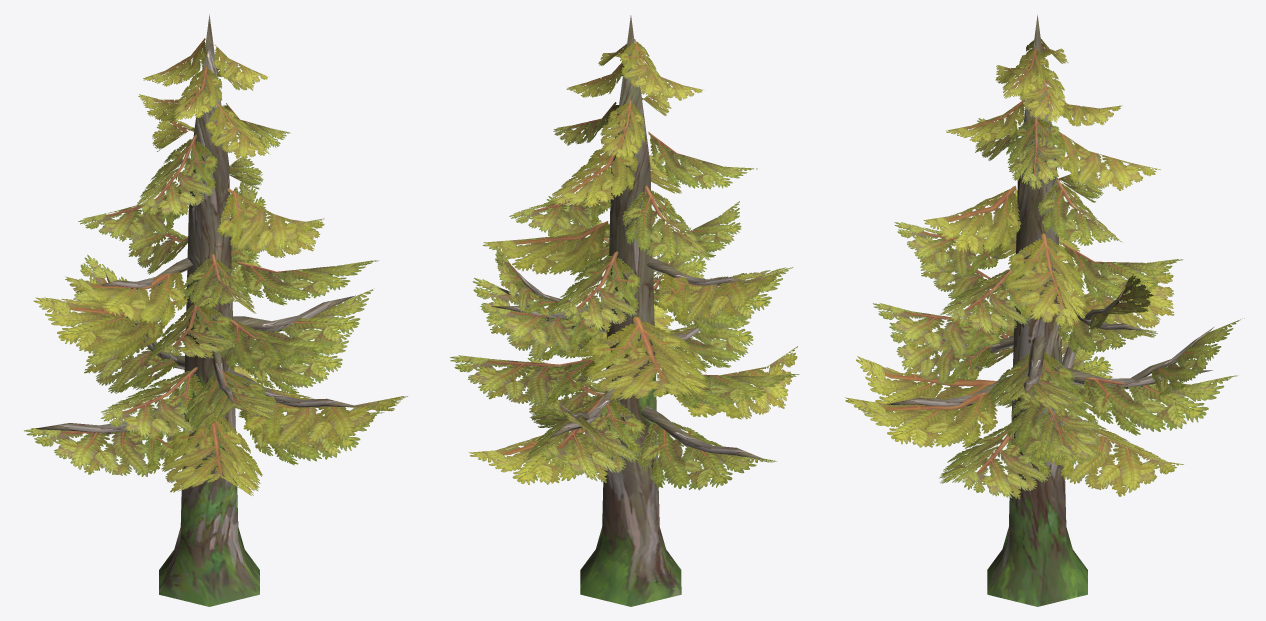
The model's file is Map_08_tree04.FBX.
3 renders of one model, left to right at view 1: azimuth 30°, elevation 25°; view 2: azimuth 150°, elevation 25°; view 3: azimuth 270°, elevation 25°, orthographic.
Visible parts, largest first — view 1: Map_08_tree04a, Map_08_tree04b; view 2: Map_08_tree04a, Map_08_tree04b; view 3: Map_08_tree04a, Map_08_tree04b.
Boxes of the visible parts, x1,y1,x2,y2 form: Map_08_tree04a: [24, 38, 407, 495]; Map_08_tree04b: [31, 14, 359, 606]; Map_08_tree04a: [450, 39, 799, 490]; Map_08_tree04b: [491, 15, 767, 606]; Map_08_tree04a: [845, 38, 1244, 499]; Map_08_tree04b: [887, 15, 1214, 606].
Bounding box in the file's own units: 613 × 642 × 968.
